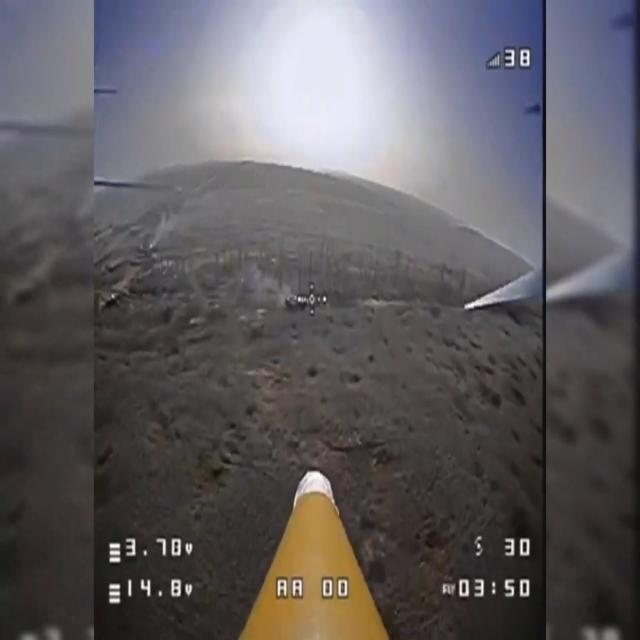apc: (285, 295, 307, 309)
cars: (104, 294, 118, 308)
